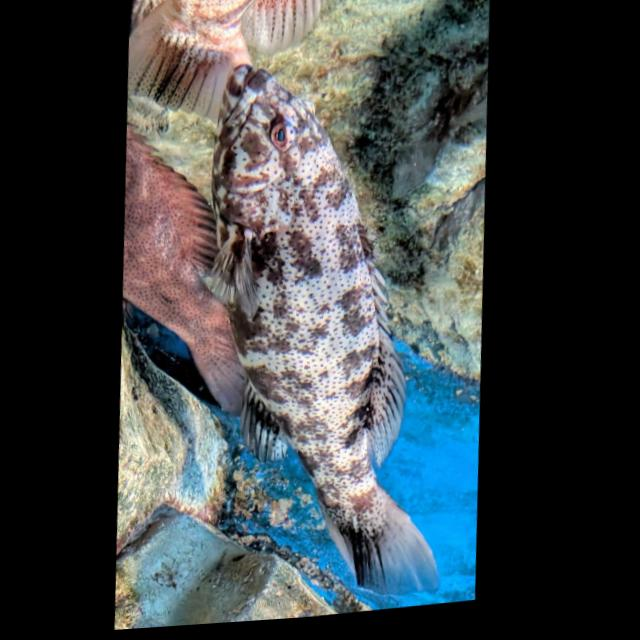Groupers: (171, 44, 475, 618)
